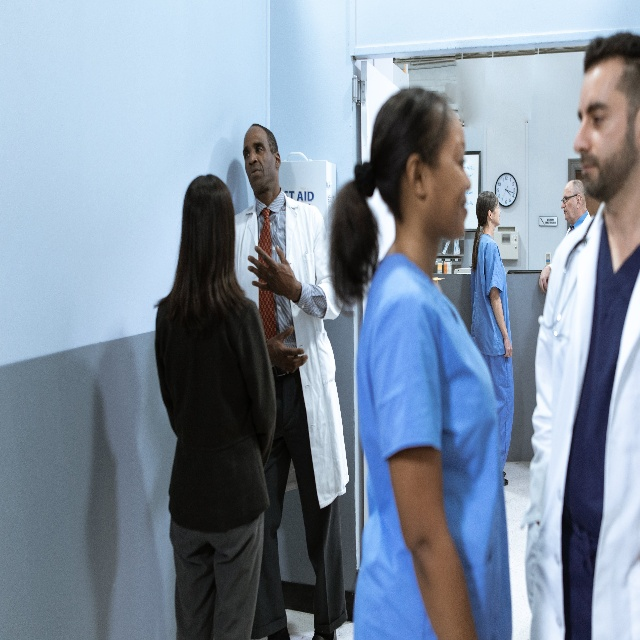Gafas: (561, 193, 578, 203)
Sin_guantes: (246, 244, 297, 300), (266, 324, 308, 373), (538, 265, 551, 294), (503, 336, 513, 360)
